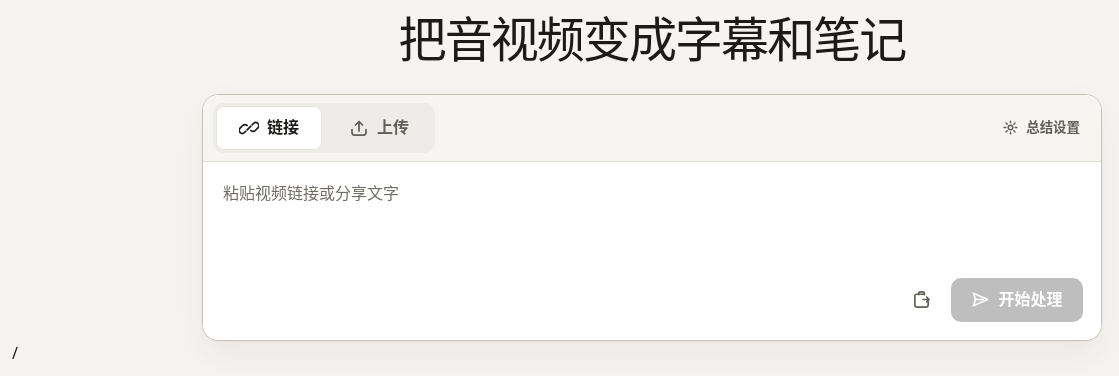
Test: CreateTaskPage › shows the compact launcher with summary settings
The image size is (1119, 376).
Check: the button named "粘贴剪贴板内容" is shown, box x1=899 y1=278 x2=943 y2=322
Check: the button "总结设置" is shown, box x1=991 y1=109 x2=1091 y2=147
Click the tab "上传": (379, 128) x1=326 y1=106 x2=432 y2=150
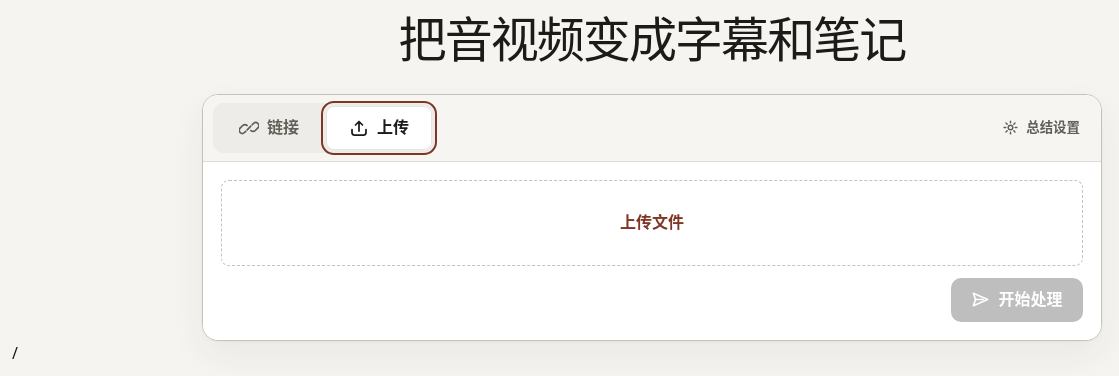
Check: the text "上传文件" is shown, box x1=620 y1=210 x2=684 y2=235
Check: the button "粘贴剪贴板内容" is gone
